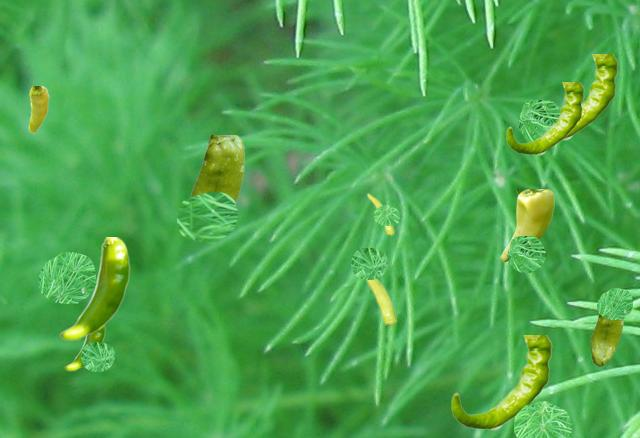green_chili: (451, 335, 551, 429), (59, 237, 129, 340), (506, 82, 583, 154), (564, 54, 617, 139), (500, 189, 553, 261), (190, 135, 243, 201), (64, 326, 104, 370), (590, 314, 622, 365), (364, 279, 395, 324), (367, 193, 393, 234), (28, 86, 48, 132)
